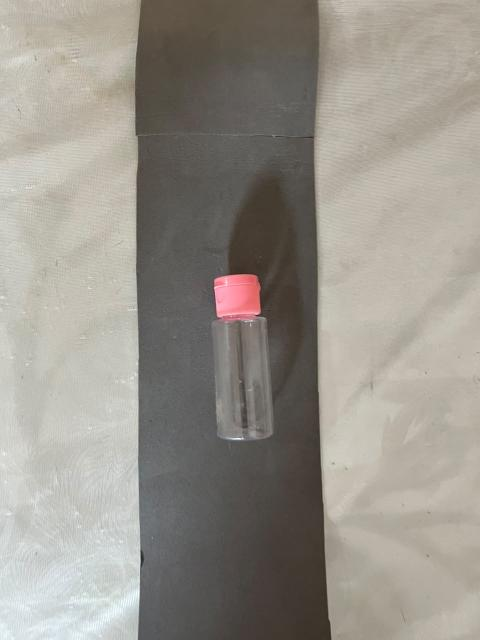PET: (150, 231, 350, 505)
